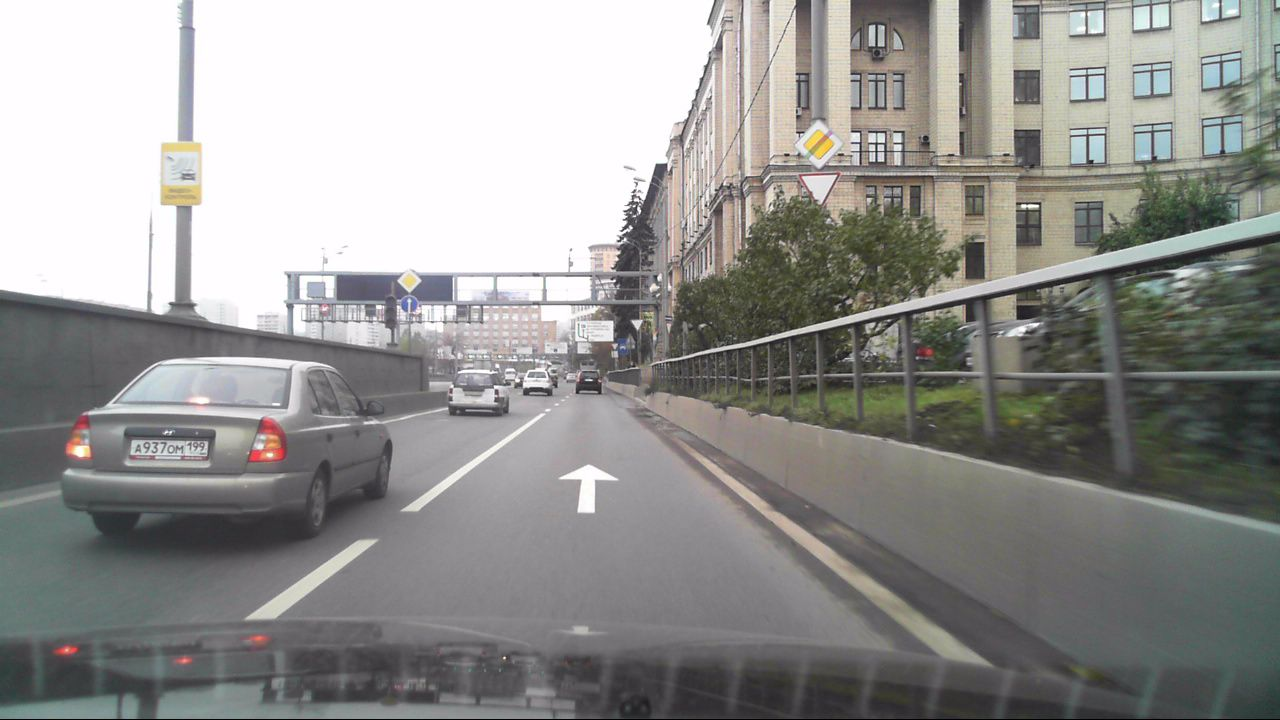main road: (795, 120, 843, 170)
